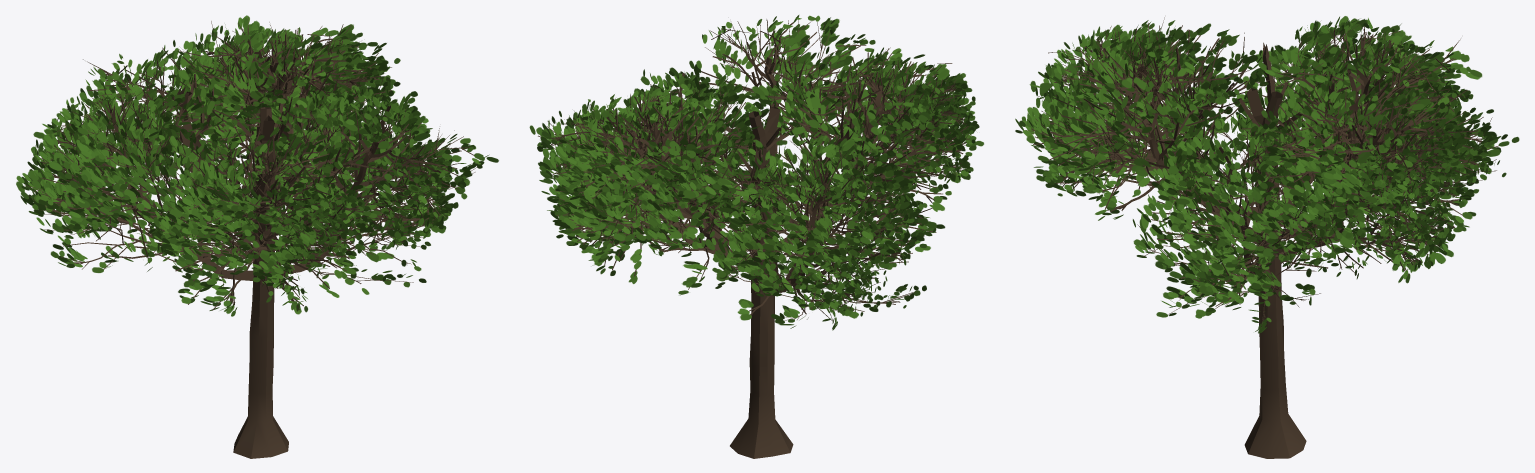
The picture shows the model from 3 angles, left to right: view 1: azimuth 30°, elevation 25°; view 2: azimuth 150°, elevation 25°; view 3: azimuth 270°, elevation 25°; orthographic projection. The views are drawn at different scales.
Parts seen in each view (by area): view 1: oak 01.001_trunk_Mat.001_0.080; view 2: oak 01.001_trunk_Mat.001_0.080; view 3: oak 01.001_trunk_Mat.001_0.080.
Part boxes in pixels (<box>): oak 01.001_trunk_Mat.001_0.080: <box>16,15,498,458</box>; oak 01.001_trunk_Mat.001_0.080: <box>529,15,983,458</box>; oak 01.001_trunk_Mat.001_0.080: <box>1015,16,1519,458</box>.
Size of the model in its own units: 4.23 by 3.88 by 4.72.
Materials: 2 (1 with a texture image).
